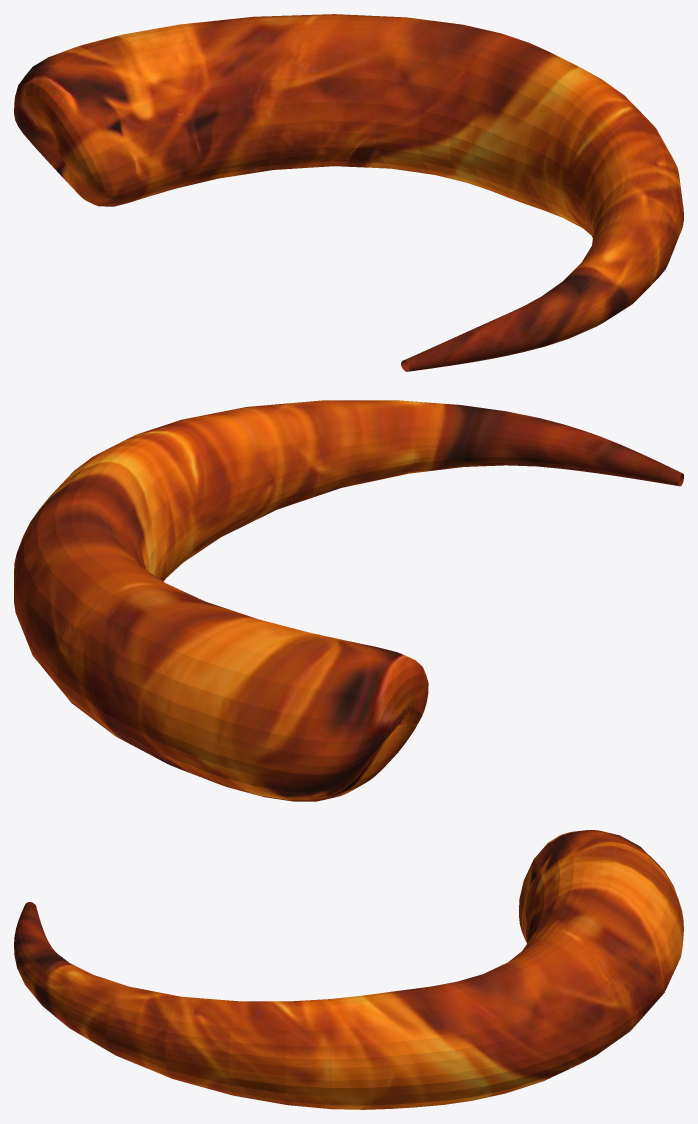
Rendered from point.obj.
3 renders of one model, top to bottom at view 1: azimuth 30°, elevation 25°; view 2: azimuth 150°, elevation 25°; view 3: azimuth 270°, elevation 25°, orthographic. The views are drawn at different scales.
Parts seen in each view (by area): view 1: Mesh_SurfTorus_SurfTorus_M; view 2: Mesh_SurfTorus_SurfTorus_M; view 3: Mesh_SurfTorus_SurfTorus_M.
Part boxes in pixels (x1,y1,x2,y2): Mesh_SurfTorus_SurfTorus_M: (14,14,683,371); Mesh_SurfTorus_SurfTorus_M: (14,400,683,801); Mesh_SurfTorus_SurfTorus_M: (14,830,683,1109).
Size of the model in its own units: 10.52 by 3.14 by 14.98.
Materials: 1 (1 with a texture image).
